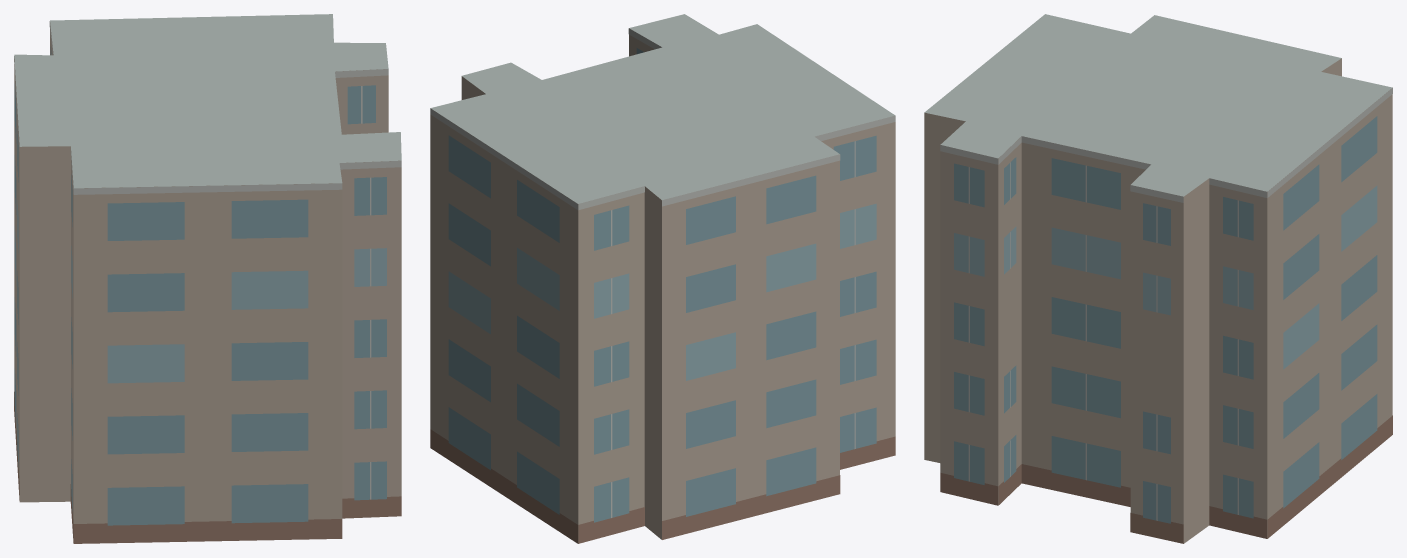
Rendered from survey-upis-32888756.glb.
The picture shows the model from 3 angles, left to right: view 1: azimuth 30°, elevation 25°; view 2: azimuth 150°, elevation 25°; view 3: azimuth 270°, elevation 25°; orthographic projection. The views are drawn at different scales.
Parts seen in each view (by area): view 1: survey-upis-32888756.tmp; view 2: survey-upis-32888756.tmp; view 3: survey-upis-32888756.tmp.
Boxes of the visible parts, x1,y1,x2,y2 form: survey-upis-32888756.tmp: [14, 14, 401, 543]; survey-upis-32888756.tmp: [430, 14, 895, 543]; survey-upis-32888756.tmp: [924, 14, 1392, 543].
Size of the model in its own units: 14.9 by 13.2 by 16.15.
